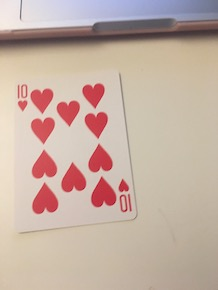TenOfHearts: (10, 64, 139, 233)
